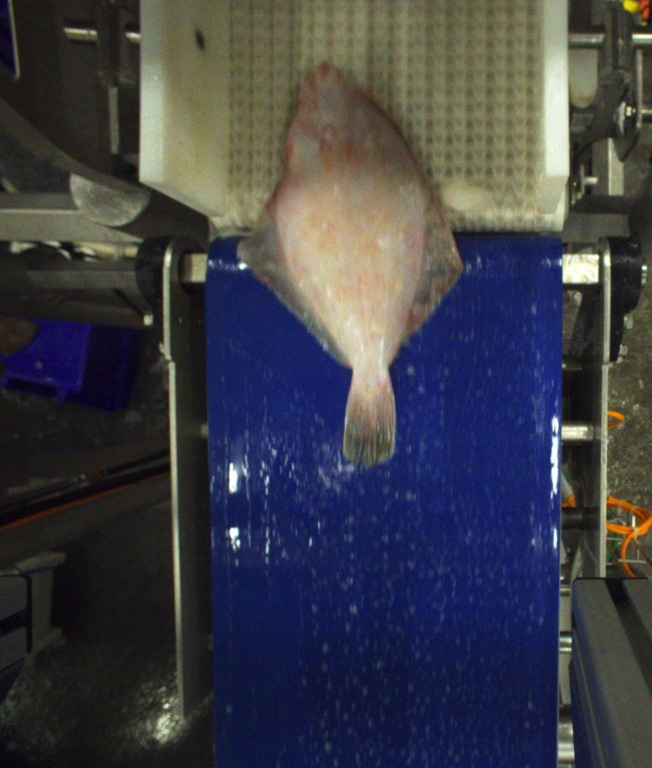PLE: (242, 62, 464, 453)
